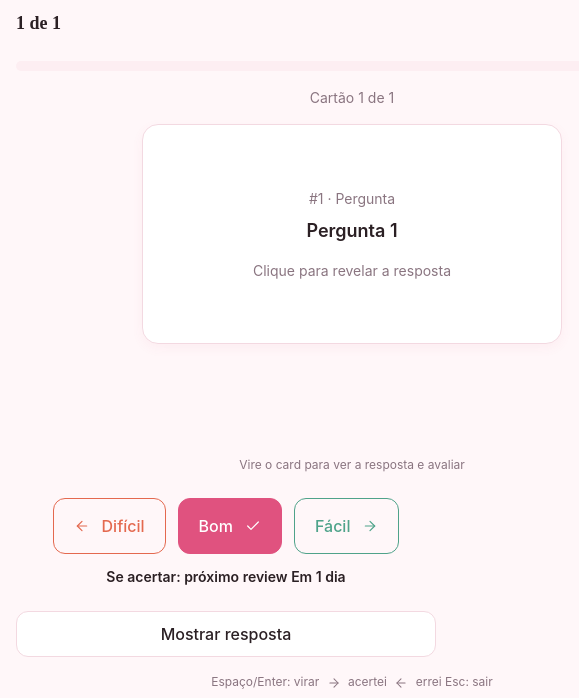
Scenario: Review — B-301: avaliação bloqueada antes de virar o card › após virar o card, botões de avaliação ficam habilitados
Check: the text "Pergunta 1" is shown, box [306,216,398,244]
Click the element with test id "flashcard-frente": (352, 234) [142,124,562,344]
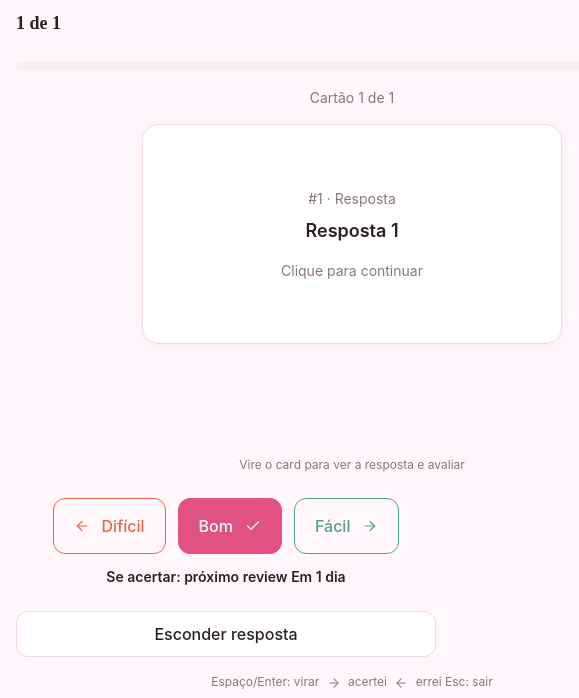
Check: the button "Difícil" is enabled, box [52,498,166,554]
Check: the text "Resposta 1" is shown, box [306,216,399,244]
